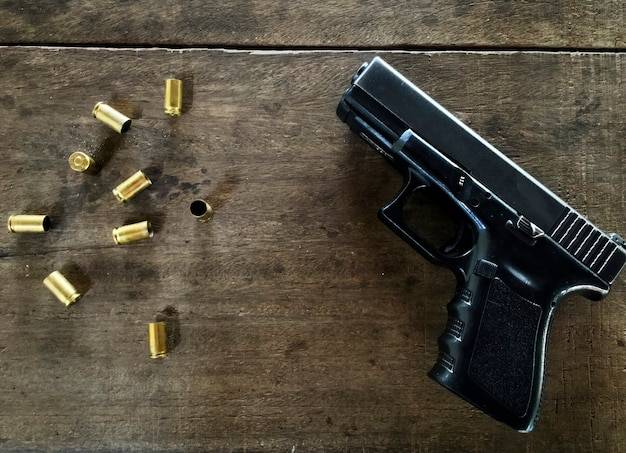gun: (338, 55, 626, 430)
